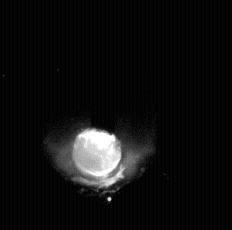arame: (92, 0, 117, 135)
poca: (47, 0, 157, 230)
